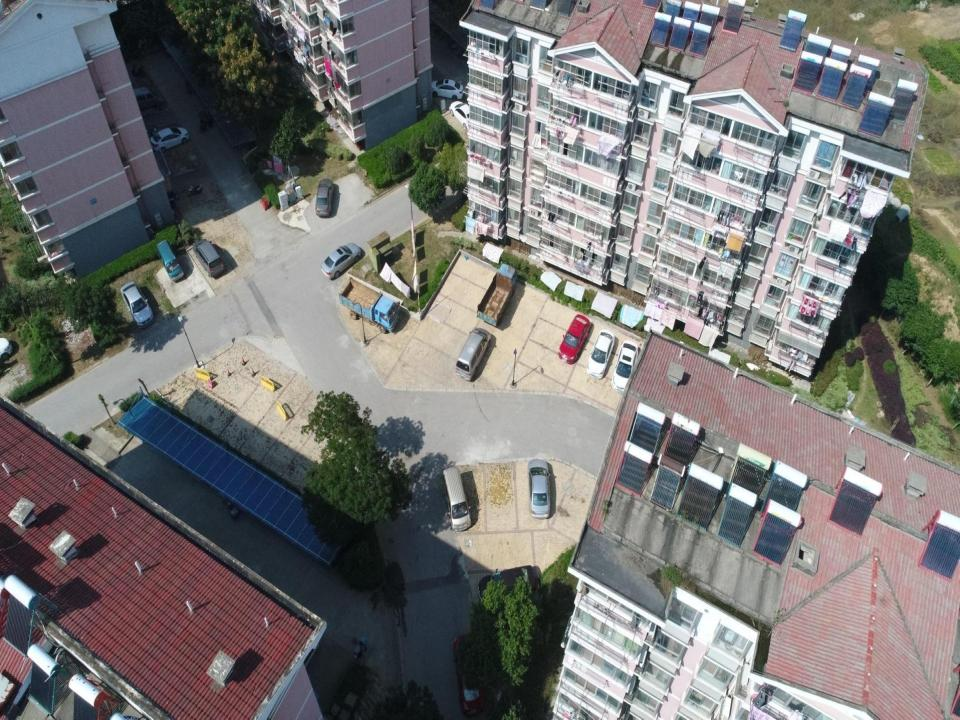car: (452, 632, 485, 716), (478, 565, 536, 609), (121, 278, 155, 330), (558, 311, 590, 364), (321, 242, 364, 278), (586, 326, 614, 380), (611, 340, 639, 393), (527, 457, 550, 520), (192, 239, 225, 277), (156, 240, 183, 281), (149, 127, 189, 152), (315, 178, 333, 218), (430, 79, 464, 100), (448, 101, 470, 127)
truck: (339, 278, 401, 334), (477, 264, 517, 327)
van: (456, 327, 491, 381), (443, 466, 470, 532), (130, 87, 161, 109)
